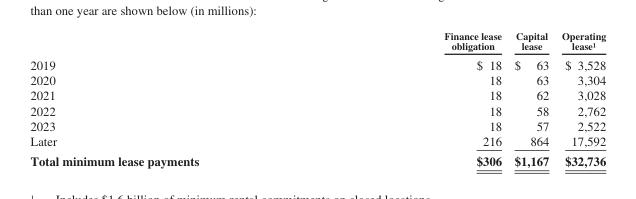table: (29, 29, 605, 167)
table column: (29, 29, 320, 167), (320, 29, 507, 167), (554, 29, 605, 167), (507, 29, 554, 167)
table column header: (29, 29, 605, 54)
table row: (29, 29, 605, 54), (29, 54, 605, 72), (29, 132, 605, 150), (29, 150, 605, 167), (29, 72, 605, 87), (29, 87, 605, 102), (29, 102, 605, 117), (29, 117, 605, 132)
